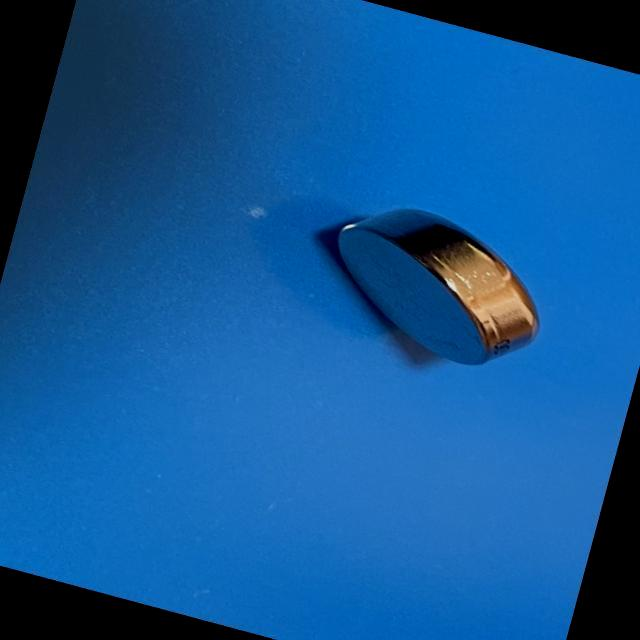COIN: (309, 185, 561, 382)
